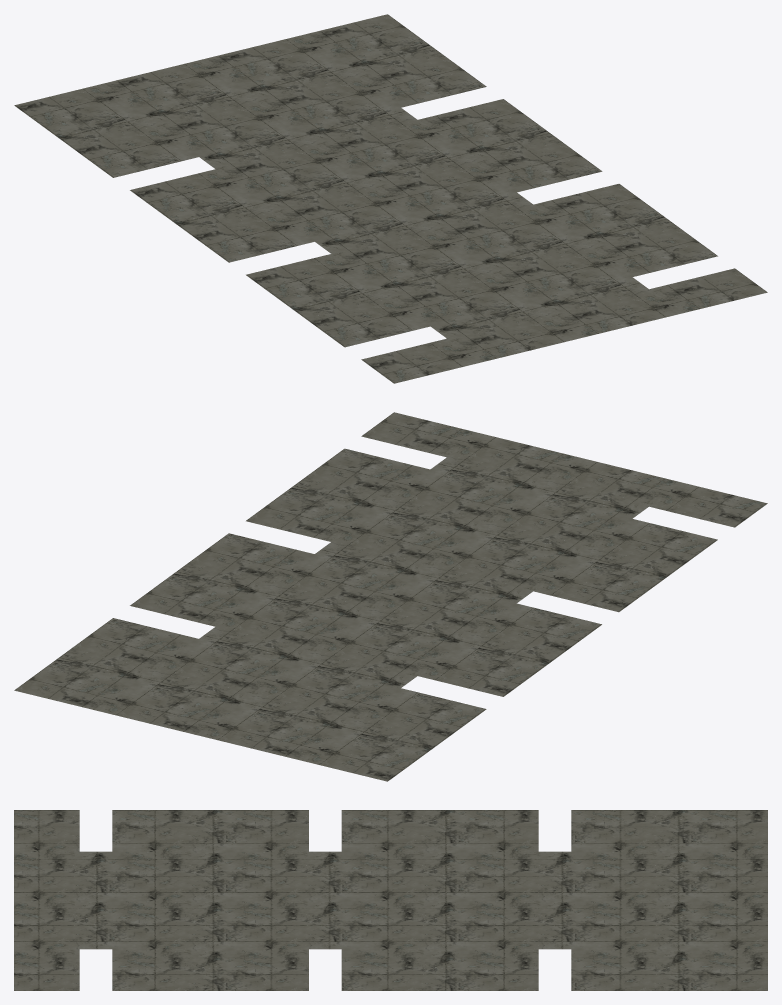
File: Ceiling.glb
3 views of the same model, one above another, from view 1: azimuth 30°, elevation 25°; view 2: azimuth 150°, elevation 25°; view 3: azimuth 270°, elevation 25° (orthographic).
Visible parts, largest first — view 1: Ceiling_segment_024, Ceiling_segment_021, Ceiling_segment_015, Ceiling_segment_026, Ceiling_segment_027, Ceiling_segment_030, Ceiling_segment_032, Ceiling_segment_033, Ceiling_segment_018, Ceiling_segment_025, Ceiling_segment_031, Ceiling_segment_010 (+22 smaller); view 2: Ceiling_segment_021, Ceiling_segment_024, Ceiling_segment_030, Ceiling_segment_032, Ceiling_segment_015, Ceiling_segment_026, Ceiling_segment_025, Ceiling_segment_018, Ceiling_segment_033, Ceiling_segment_027, Ceiling_segment_010, Ceiling_segment_031 (+22 smaller); view 3: Ceiling_segment_024, Ceiling_segment_021, Ceiling_segment_015, Ceiling_segment_026, Ceiling_segment_030, Ceiling_segment_032, Ceiling_segment_018, Ceiling_segment_025, Ceiling_segment_031, Ceiling_segment_010, Ceiling_segment_027, Ceiling_segment_033 (+22 smaller).
Boxes of the visible parts, <box> form: Ceiling_segment_024: <box>216,144,365,205</box>; Ceiling_segment_021: <box>317,120,467,180</box>; Ceiling_segment_015: <box>150,96,299,156</box>; Ceiling_segment_026: <box>381,265,531,326</box>; Ceiling_segment_027: <box>432,204,582,265</box>; Ceiling_segment_030: <box>251,71,400,132</box>; Ceiling_segment_032: <box>482,241,632,301</box>; Ceiling_segment_033: <box>201,35,351,95</box>; Ceiling_segment_018: <box>100,60,249,120</box>; Ceiling_segment_025: <box>332,229,481,289</box>; Ceiling_segment_031: <box>266,181,415,241</box>; Ceiling_segment_010: <box>367,156,516,216</box>; Ceiling_segment_021: <box>216,590,365,651</box>; Ceiling_segment_024: <box>317,615,466,675</box>; Ceiling_segment_030: <box>149,639,299,699</box>; Ceiling_segment_032: <box>381,469,530,530</box>; Ceiling_segment_015: <box>250,663,400,724</box>; Ceiling_segment_026: <box>482,494,631,554</box>; Ceiling_segment_025: <box>432,530,582,591</box>; Ceiling_segment_018: <box>201,700,350,760</box>; Ceiling_segment_033: <box>100,675,249,735</box>; Ceiling_segment_027: <box>332,506,481,566</box>; Ceiling_segment_010: <box>266,554,415,614</box>; Ceiling_segment_031: <box>367,579,516,639</box>; Ceiling_segment_024: <box>439,851,538,900</box>; Ceiling_segment_021: <box>439,900,538,949</box>; Ceiling_segment_015: <box>571,851,669,900</box>; Ceiling_segment_026: <box>112,851,210,900</box>; Ceiling_segment_030: <box>571,900,669,949</box>; Ceiling_segment_032: <box>112,900,210,949</box>; Ceiling_segment_018: <box>669,851,767,900</box>; Ceiling_segment_025: <box>210,851,308,900</box>; Ceiling_segment_031: <box>341,851,439,900</box>; Ceiling_segment_010: <box>341,900,439,949</box>; Ceiling_segment_027: <box>210,900,308,949</box>; Ceiling_segment_033: <box>669,900,767,949</box>.
Bounding box in the file's own units: 26.11 × 0 × 46.
Materials: 1 (1 with a texture image).
